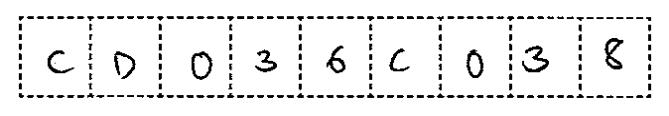0: (180, 44, 218, 84), (458, 46, 492, 84)
3: (517, 39, 553, 81), (249, 46, 282, 77)
6: (322, 43, 349, 78)
8: (598, 34, 629, 75)
C: (44, 44, 78, 77), (383, 45, 415, 78)
D: (106, 46, 142, 82)
